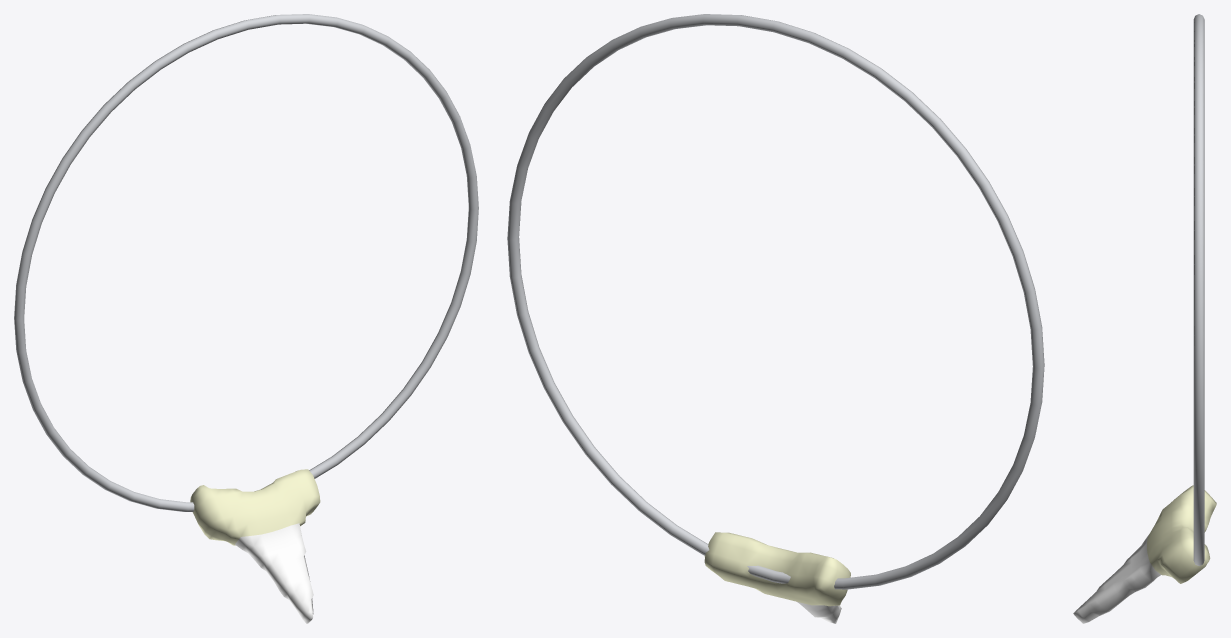
The model's file is item-shark-necklace.glb.
3 renders of one model, left to right at view 1: azimuth 30°, elevation 25°; view 2: azimuth 150°, elevation 25°; view 3: azimuth 270°, elevation 25°, orthographic. The views are drawn at different scales.
Size of the model in its own units: 2.04 by 2.37 by 0.5289.
